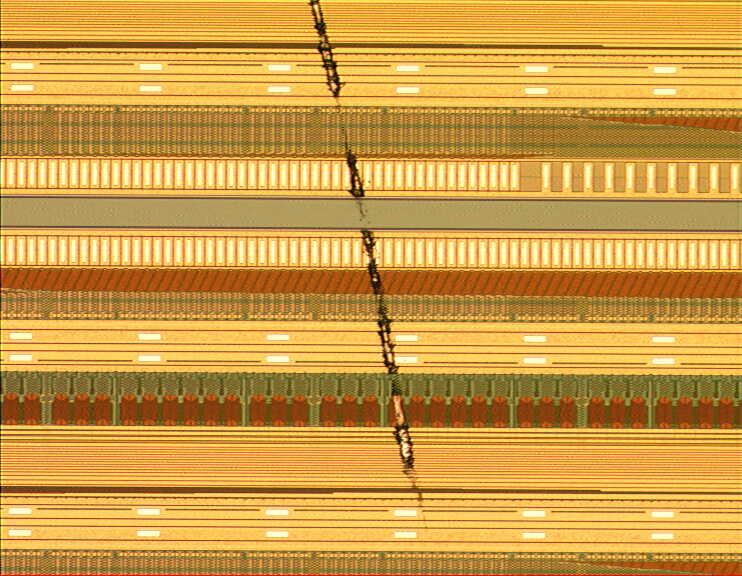SCRATCH: (304, 1, 438, 541)
